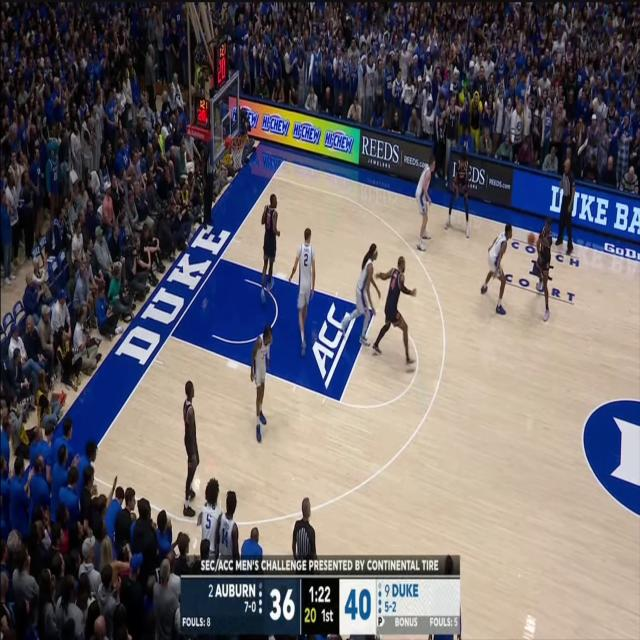basketball: (519, 204, 543, 273)
